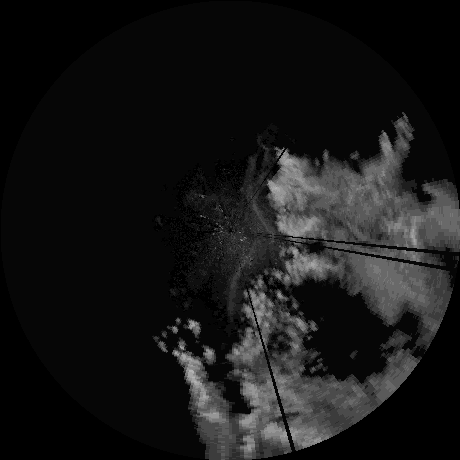frontgust: (243, 144, 274, 236), (226, 244, 259, 319)
